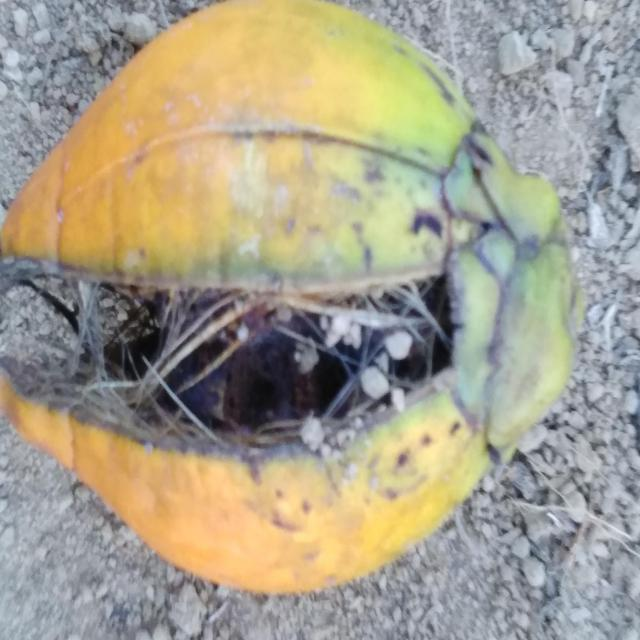damaged: (0, 0, 587, 600)
